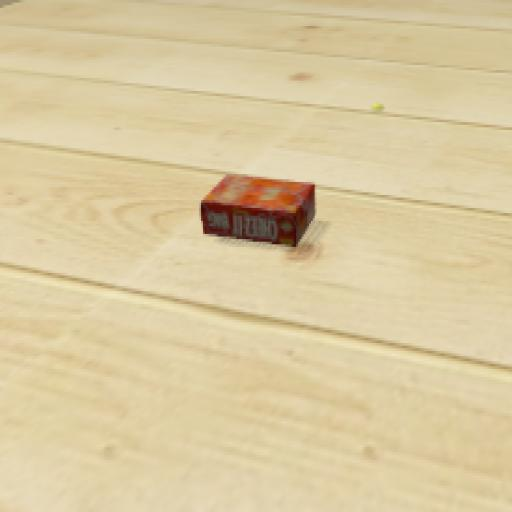BOX_R: (173, 93, 376, 307)
